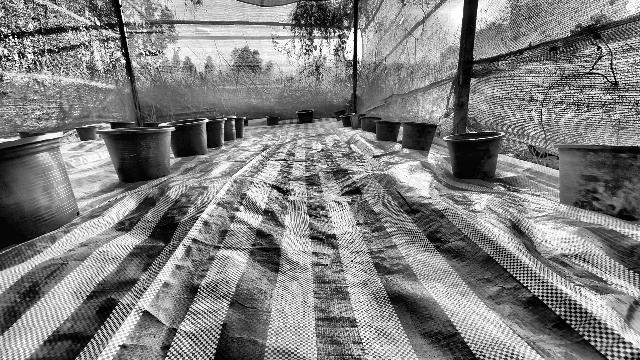pot: (0, 132, 80, 253), (554, 144, 640, 223), (97, 125, 175, 183), (442, 131, 506, 179), (160, 118, 208, 157), (402, 120, 437, 152), (207, 117, 226, 149), (374, 120, 401, 142), (74, 126, 100, 142), (362, 115, 382, 133), (223, 115, 235, 142), (296, 108, 314, 124), (236, 116, 245, 138), (268, 115, 279, 126)
